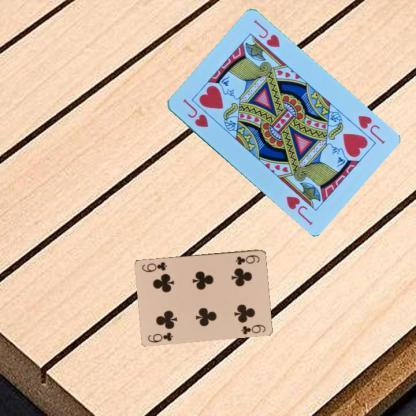6c: (232, 252, 262, 266), (146, 329, 174, 344)
Jh: (355, 112, 386, 146), (180, 96, 210, 129)
